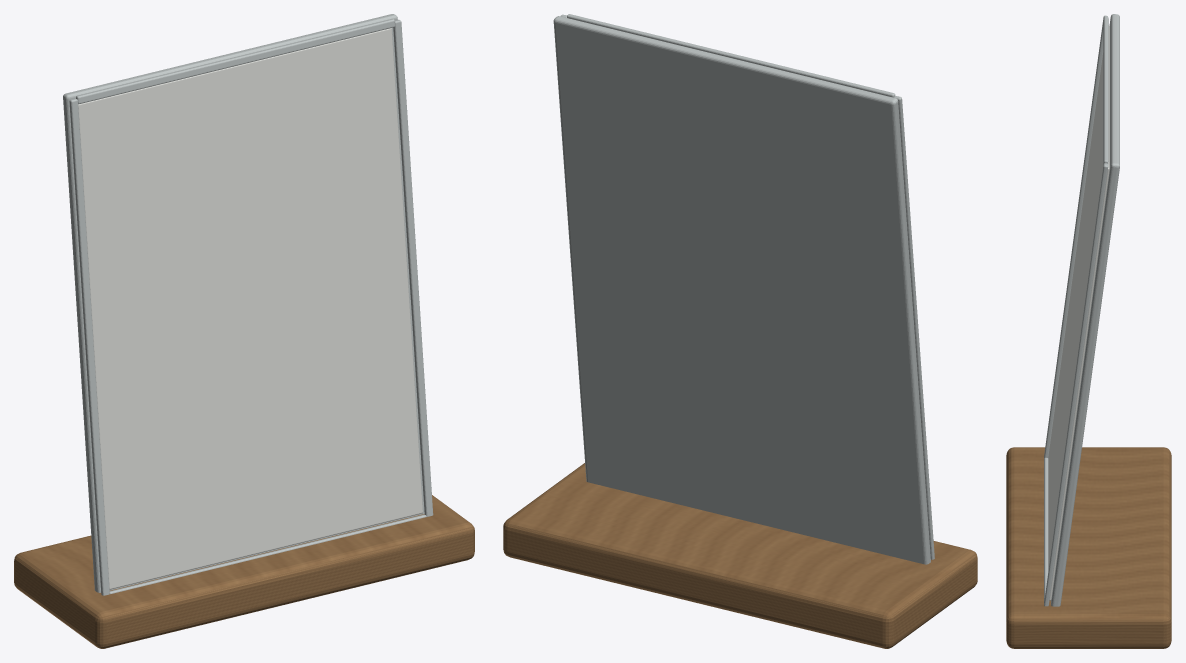
3 renders of one model, left to right at view 1: azimuth 30°, elevation 25°; view 2: azimuth 150°, elevation 25°; view 3: azimuth 270°, elevation 25°, orthographic. The views are drawn at different scales.
Parts seen in each view (by area): view 1: REPLACEABLE neutral certificate face, Oak slotted certificate base, Satin metal closed backing; view 2: Satin metal closed backing, Oak slotted certificate base; view 3: Oak slotted certificate base, Satin metal closed backing, REPLACEABLE neutral certificate face.
Boxes of the visible parts, box(x1,y1,x2,y2) form: REPLACEABLE neutral certificate face: box(78, 28, 422, 589); Oak slotted certificate base: box(14, 495, 474, 648); Satin metal closed backing: box(63, 14, 433, 595); Satin metal closed backing: box(553, 14, 934, 564); Oak slotted certificate base: box(503, 463, 977, 648); Oak slotted certificate base: box(1006, 447, 1171, 648); Satin metal closed backing: box(1044, 14, 1119, 606); REPLACEABLE neutral certificate face: box(1048, 25, 1109, 600).
Bounding box in the file's own units: 0.26 × 0.3347 × 0.105.
3 materials, 1 textured.
